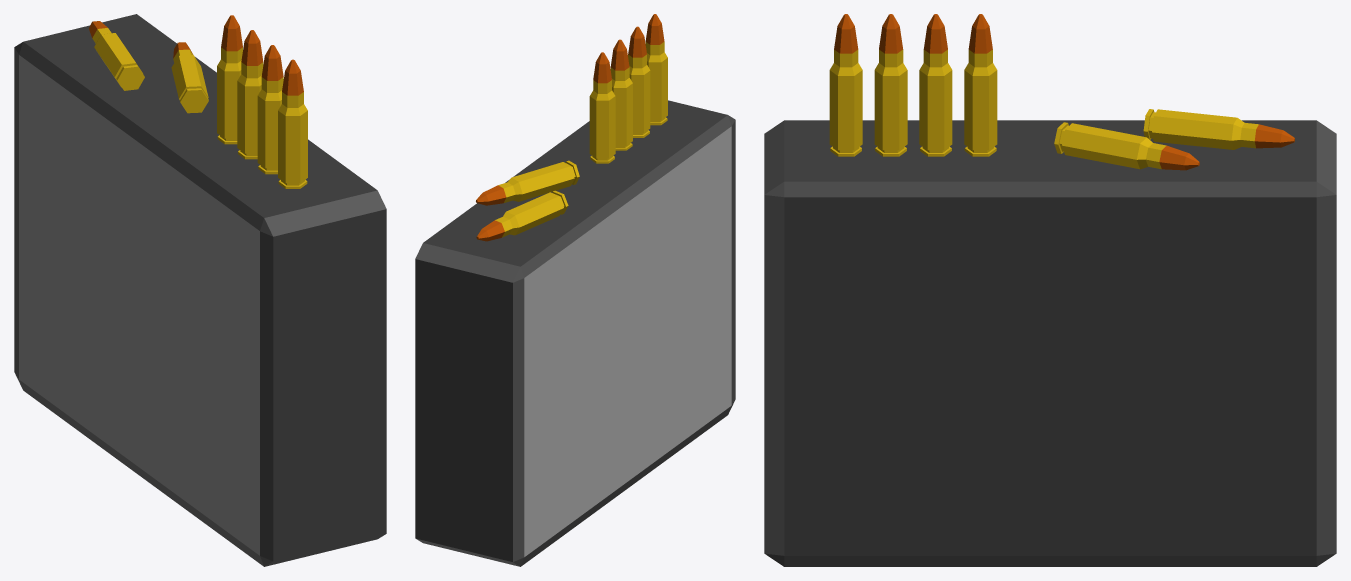
Rendered from assault_ammo.gltf.
3 renders of one model, left to right at view 1: azimuth 30°, elevation 25°; view 2: azimuth 150°, elevation 25°; view 3: azimuth 270°, elevation 25°, orthographic. The views are drawn at different scales.
Parts seen in each view (by area): view 1: AssaultRifleAmmo_Box_Cube; view 2: AssaultRifleAmmo_Box_Cube; view 3: AssaultRifleAmmo_Box_Cube.
Boxes of the visible parts, left/top/right/bottom form: AssaultRifleAmmo_Box_Cube: left=14, top=14, right=386, bottom=566; AssaultRifleAmmo_Box_Cube: left=415, top=14, right=735, bottom=566; AssaultRifleAmmo_Box_Cube: left=764, top=14, right=1336, bottom=566.
Size of the model in its own units: 0.1256 by 0.4645 by 0.4618.
